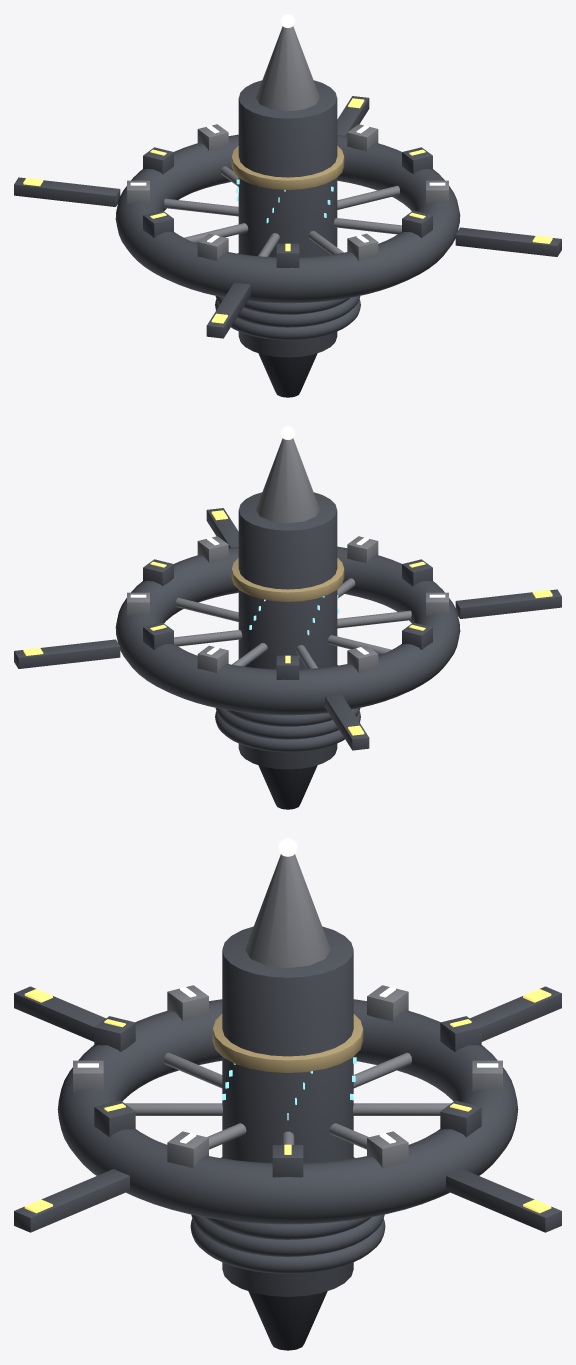
Rendered from station.glb.
3 renders of one model, top to bottom at view 1: azimuth 30°, elevation 25°; view 2: azimuth 150°, elevation 25°; view 3: azimuth 270°, elevation 25°, orthographic. The views are drawn at different scales.
Visible parts, largest first — view 1: station; view 2: station; view 3: station.
Boxes of the visible parts, x1,y1,x2,y2 form: station: [14, 14, 561, 397]; station: [14, 426, 561, 809]; station: [14, 838, 561, 1350].
Bounding box in the file's own units: 46.65 × 47.4 × 46.65.
